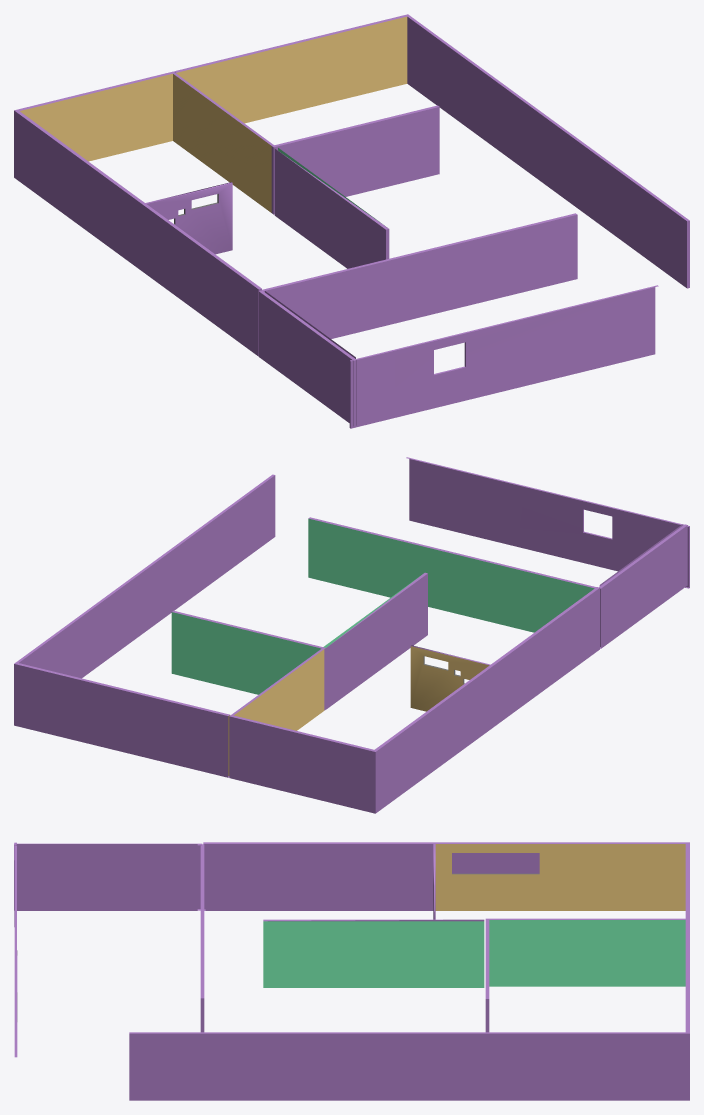
The model's file is house_fp_2.obj.
3 renders of one model, top to bottom at view 1: azimuth 30°, elevation 25°; view 2: azimuth 150°, elevation 25°; view 3: azimuth 270°, elevation 25°, orthographic. The views are drawn at different scales.
Visible parts, largest first — view 1: house1.001; view 2: house1.001; view 3: house1.001.
Boxes of the visible parts, x1=… form: house1.001: x1=14, y1=14, x2=689, y2=428; house1.001: x1=14, y1=457, x2=689, y2=813; house1.001: x1=14, y1=842, x2=689, y2=1100.
Size of the model in its own units: 154 by 25.54 by 228.
